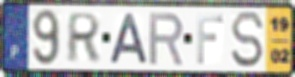9: (30, 7, 63, 68)
A: (106, 12, 150, 65)
F: (195, 13, 225, 66)
R: (147, 11, 186, 67), (64, 12, 103, 65)
S: (229, 10, 266, 69)
